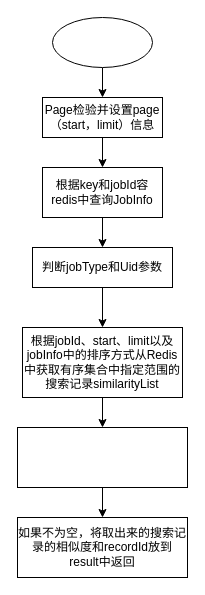
Some shapes in this 205 by 595 pixel diagram are drawn without their labels. The centre of each missing label's shape, as x and y in pixels:
"Sass下发任务" goes at point (102, 42).
"如果similarityList为空或totalCount=0，返回0和空列表" goes at point (102, 457).
